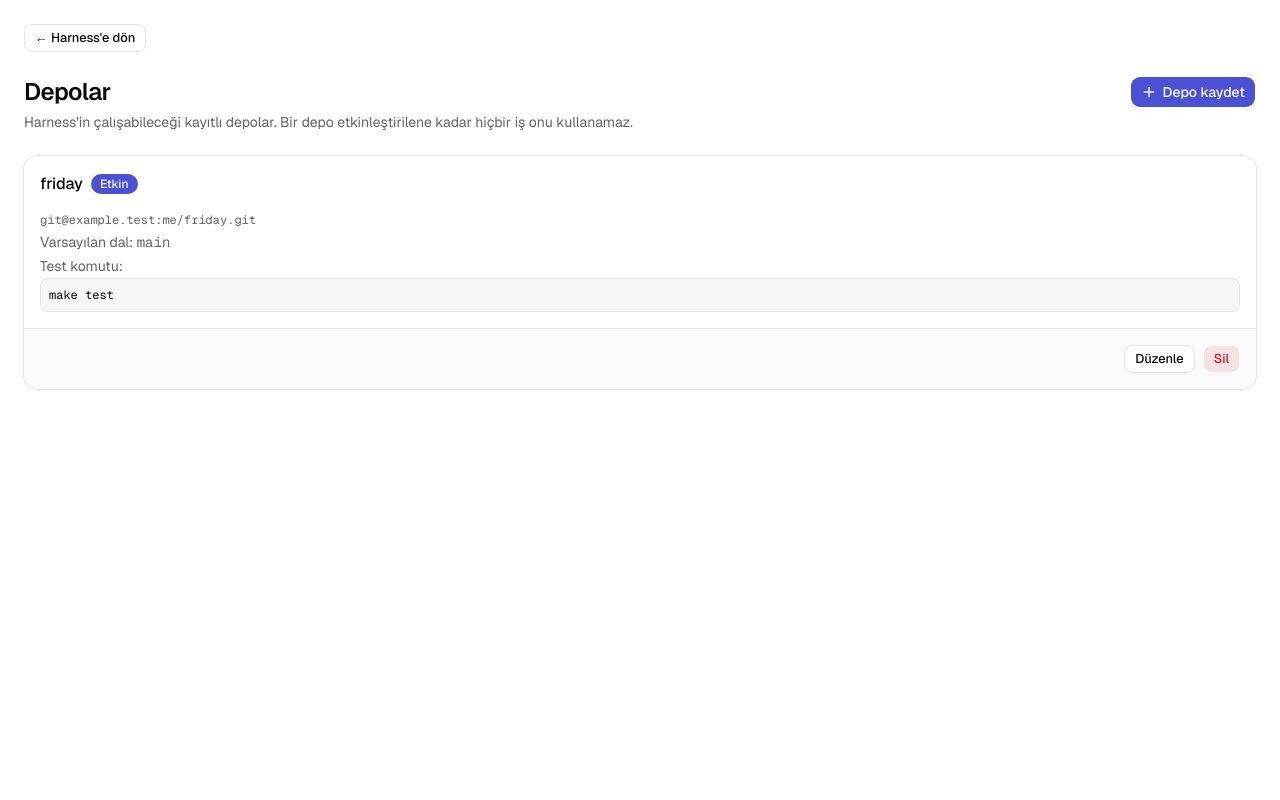
Test: HarnessRepoRegistry › deletes a repo only after confirmation, and shows a refusal inside the dialog
This screenshot has width=1280, height=800.
Expected: the text "friday" is shown, [40, 173, 83, 194]
Click the button "Sil": {"x": 1221, "y": 359} [1203, 345, 1240, 373]
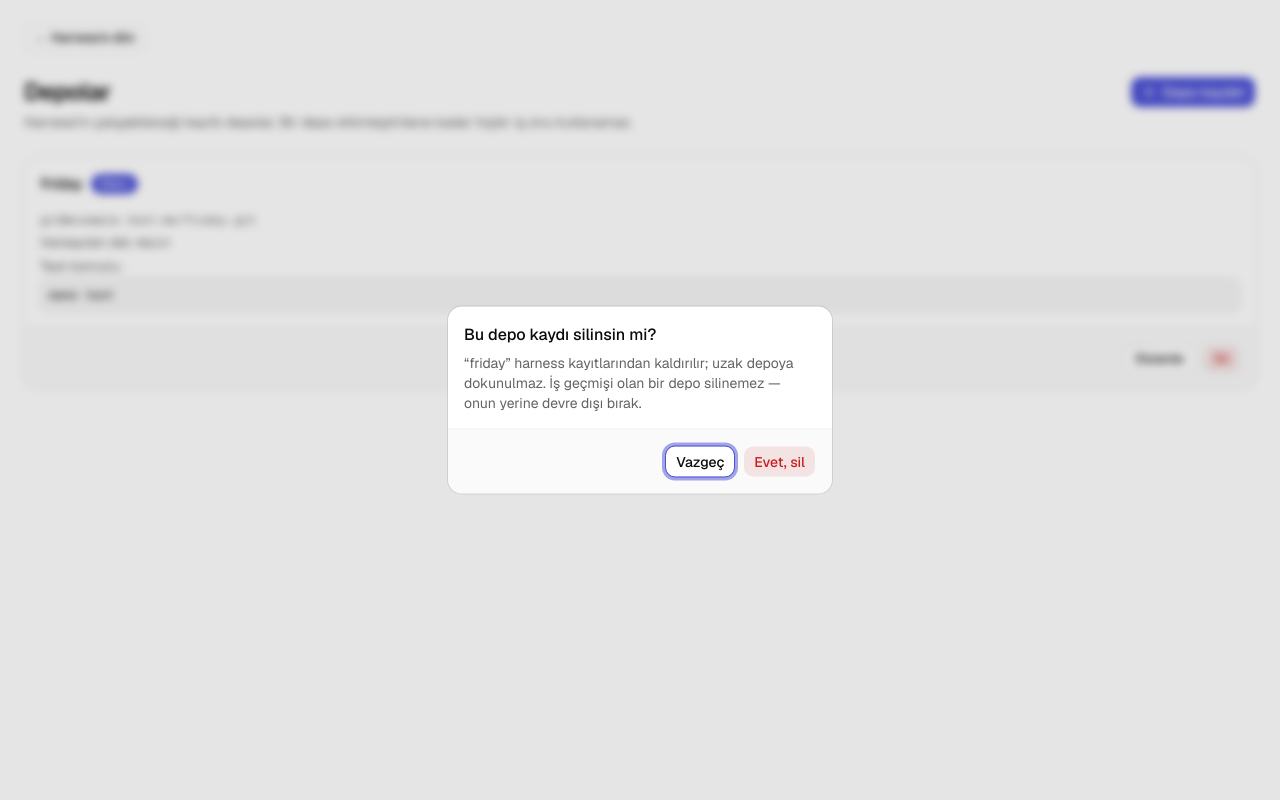
Result: the dialog shows "“friday” harness kayıtlarından kaldırılır" at [464, 354, 793, 412]
Click the button "Vazgeç": {"x": 700, "y": 462} [665, 446, 735, 478]
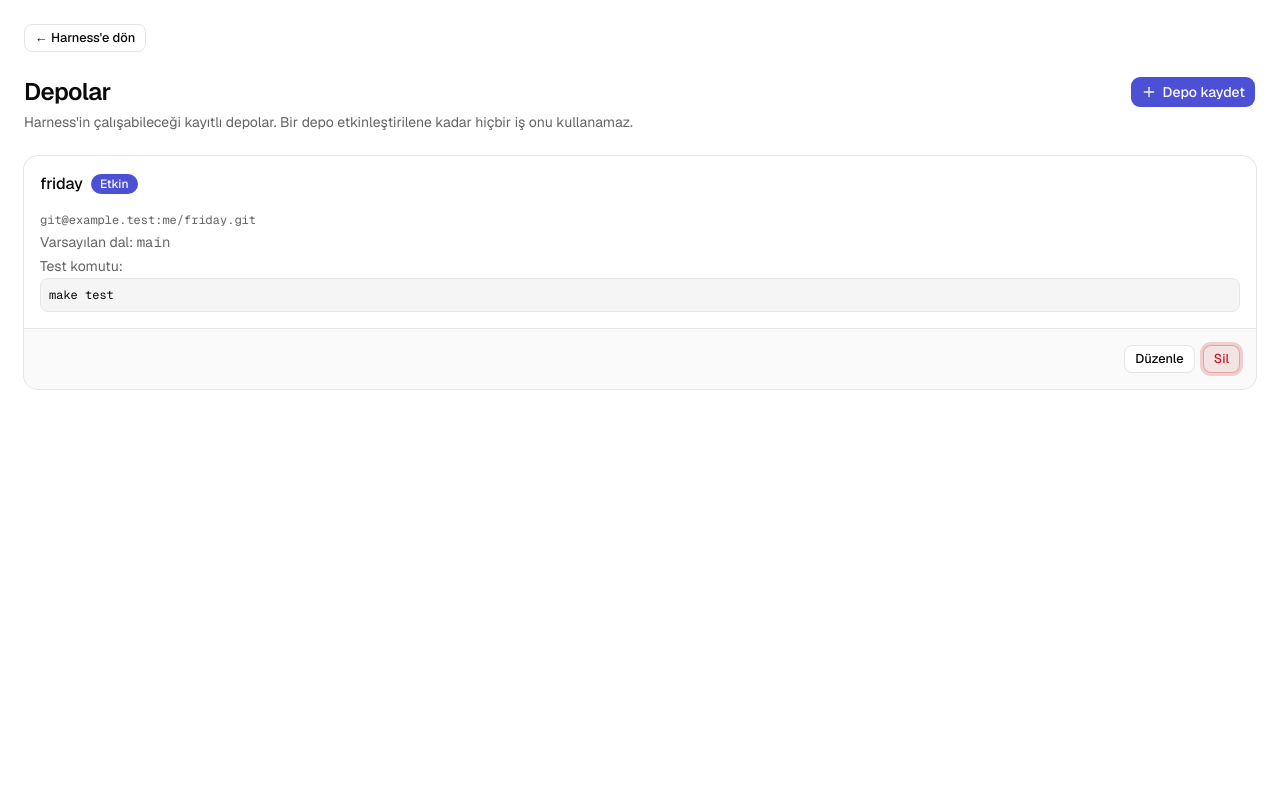
Result: the dialog is gone
Click the button "Sil": {"x": 1221, "y": 359} [1203, 345, 1240, 373]
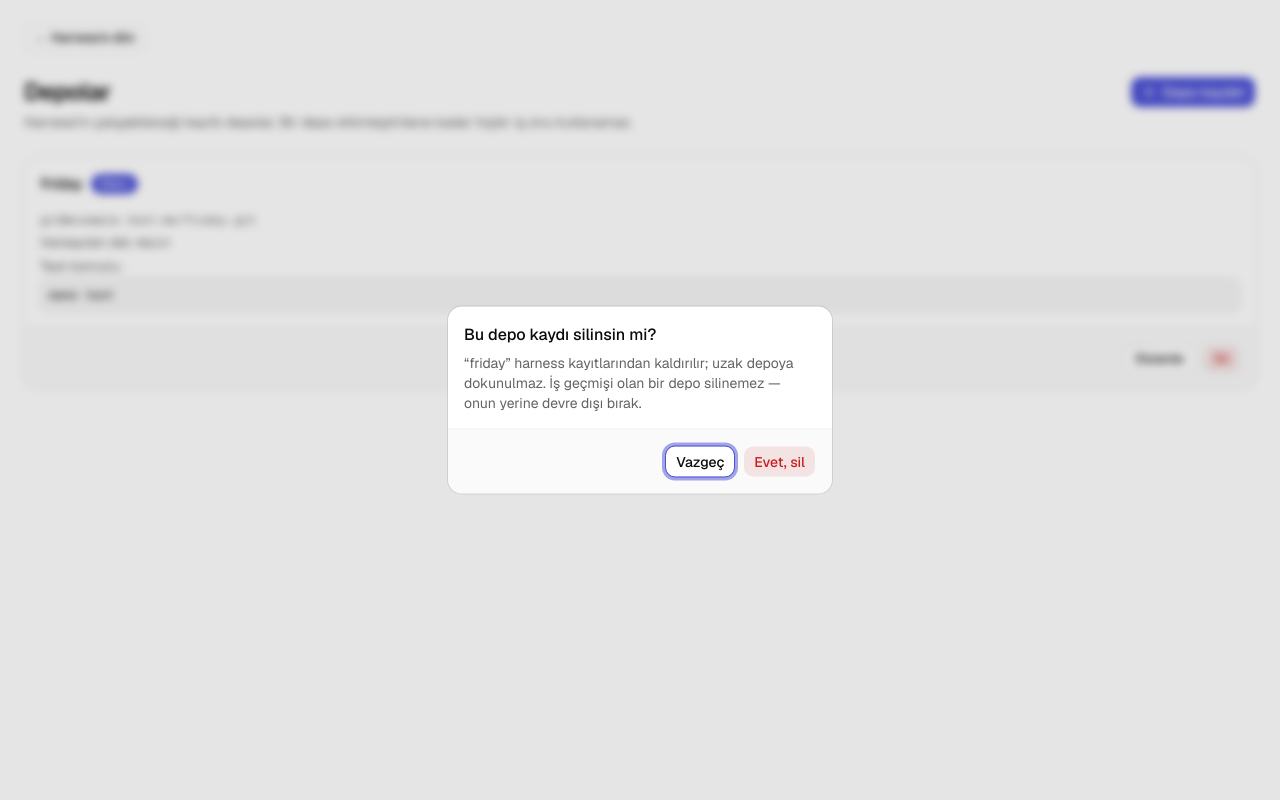
Click the button "Evet, sil": {"x": 780, "y": 462} [743, 446, 816, 478]
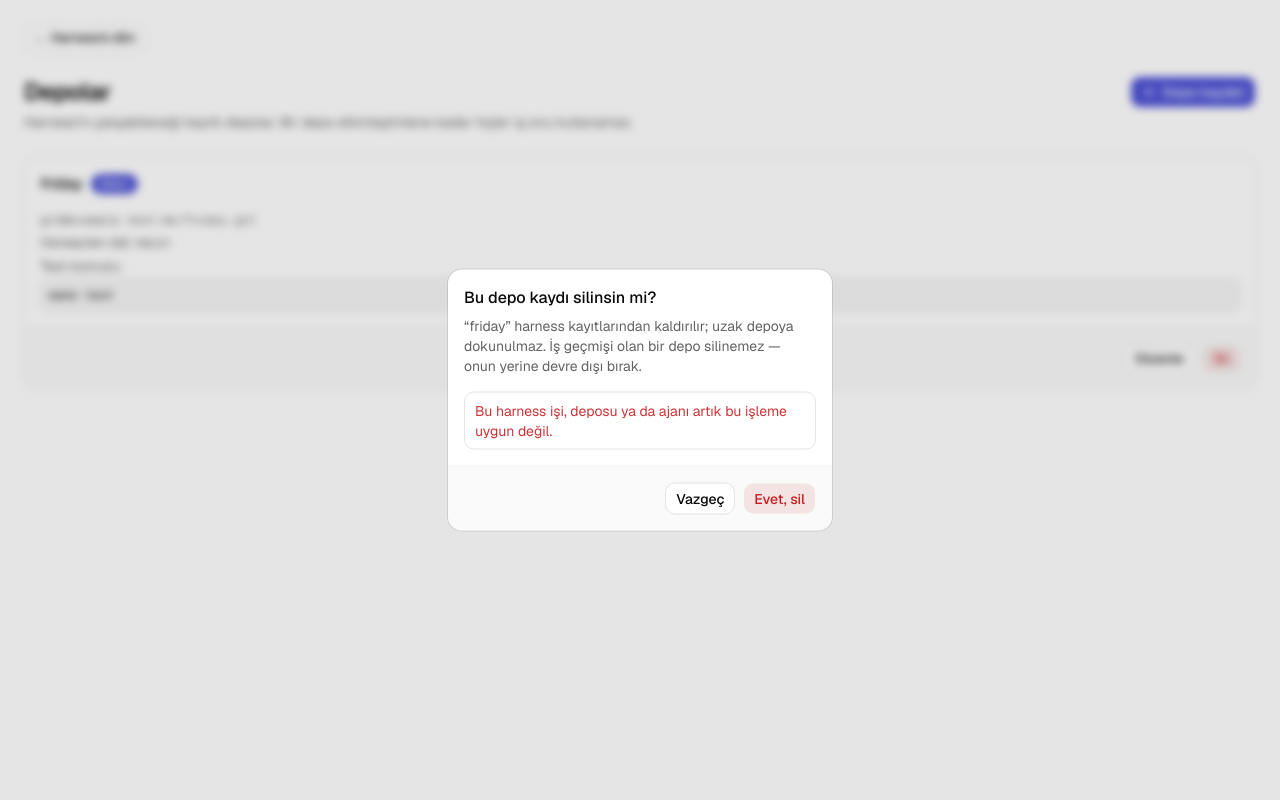
Result: the message reads "Bu harness işi, deposu ya da ajanı artık bu işleme uygun değil." at [475, 402, 787, 440]
Click the button "Evet, sil": {"x": 780, "y": 498} [743, 482, 816, 514]
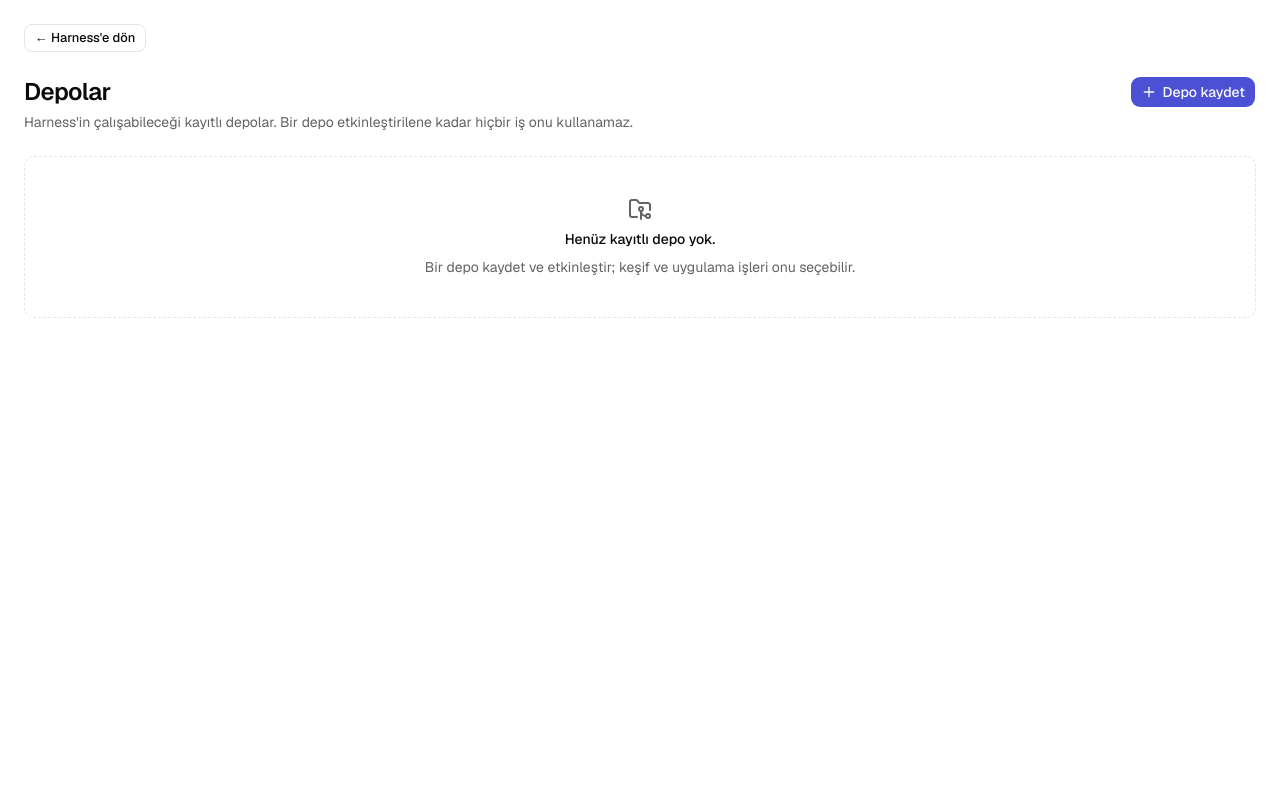
Result: the text "friday" is gone
